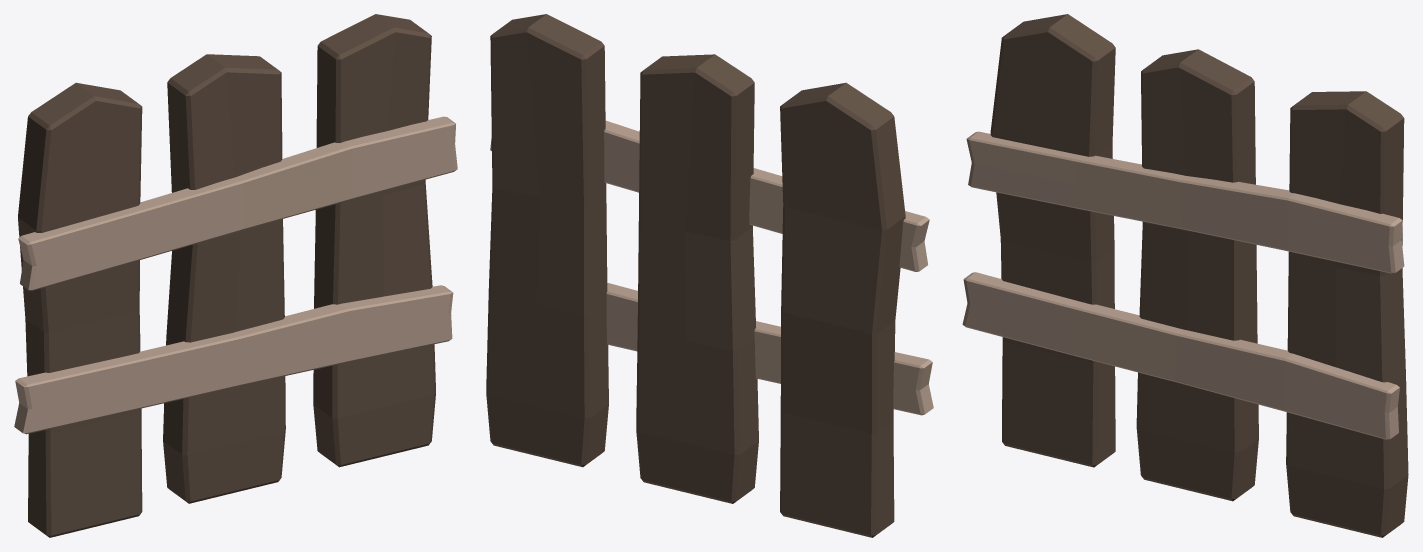
Rendered from Fence.fbx.
3 views of the same model, side by side, from view 1: azimuth 30°, elevation 25°; view 2: azimuth 150°, elevation 25°; view 3: azimuth 330°, elevation 25° (orthographic).
Visible parts, largest first — view 1: Fence; view 2: Fence; view 3: Fence.
Part boxes in pixels (x1,y1,x2,y2): Fence: (14, 14, 457, 537); Fence: (486, 14, 933, 537); Fence: (962, 14, 1408, 537).
Size of the model in its own units: 94.3 by 89.29 by 11.9.
